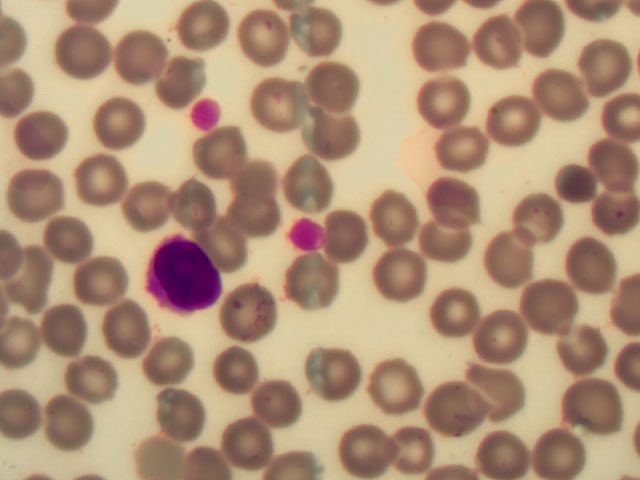Platelets: (288, 216, 325, 252), (193, 97, 220, 128)
RBC: (53, 26, 111, 83), (112, 23, 170, 80), (156, 54, 214, 111), (168, 1, 226, 58), (228, 9, 286, 66), (294, 7, 352, 64), (301, 52, 359, 109), (253, 75, 311, 132), (291, 97, 349, 154), (289, 150, 347, 207), (235, 146, 293, 203), (225, 176, 283, 233), (192, 123, 250, 180), (163, 175, 221, 232), (198, 205, 256, 262), (128, 176, 186, 233), (77, 150, 135, 207), (93, 85, 151, 142), (22, 108, 80, 165), (12, 164, 70, 221), (31, 193, 89, 250), (16, 240, 74, 297), (66, 243, 124, 300), (81, 294, 139, 351), (42, 315, 100, 372), (2, 310, 60, 367), (68, 347, 126, 404), (44, 394, 102, 451), (3, 391, 61, 448), (150, 328, 208, 385), (159, 388, 217, 445), (214, 343, 272, 400), (219, 290, 277, 347), (244, 373, 302, 430), (213, 423, 271, 480), (172, 423, 230, 480), (352, 418, 410, 475), (379, 418, 437, 475), (371, 358, 429, 415), (297, 343, 355, 400), (288, 255, 346, 312), (318, 203, 376, 260), (365, 184, 423, 241), (426, 208, 484, 265), (428, 173, 486, 230), (430, 123, 488, 180), (423, 79, 481, 136), (407, 28, 465, 85), (472, 15, 530, 72), (500, 3, 558, 60), (542, 57, 600, 114), (571, 28, 629, 85), (496, 94, 554, 151), (544, 156, 602, 213), (582, 126, 640, 183), (582, 182, 640, 239), (565, 236, 623, 293), (526, 276, 584, 333), (487, 230, 545, 287), (503, 187, 561, 244), (427, 282, 485, 339), (382, 250, 440, 307), (480, 307, 538, 364), (546, 313, 604, 370), (563, 366, 621, 423), (480, 364, 538, 421), (417, 378, 475, 435), (474, 421, 532, 478), (530, 423, 588, 480)
WBC: (150, 237, 221, 314)
